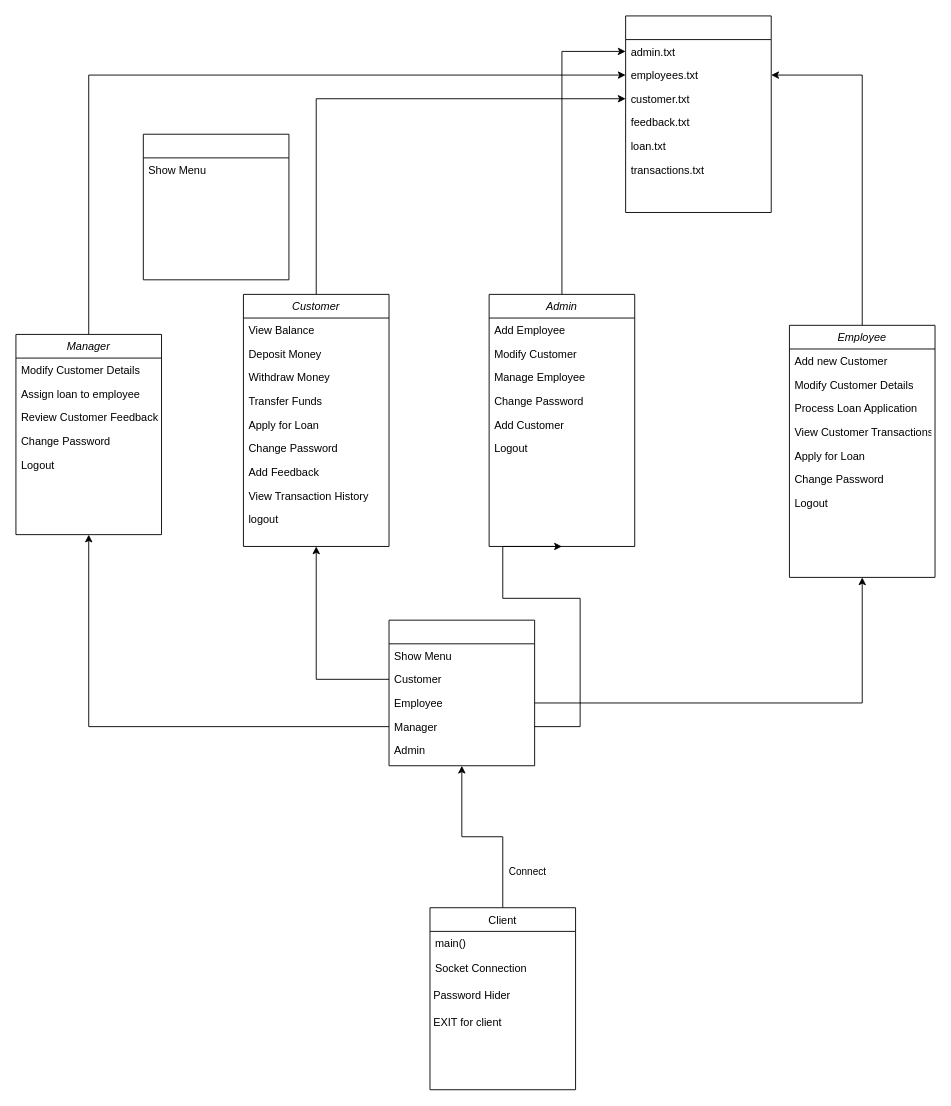
This 951x1106 diagram has some shape labels left out. The shapes that lost their labels are listed below. From the top down, each one's box as (x1, y1, x2, y2) in pixels, then its label:
(625, 15, 771, 212): DB
(142, 133, 289, 280): db.h(store data structure)
(388, 619, 535, 766): SERVER
